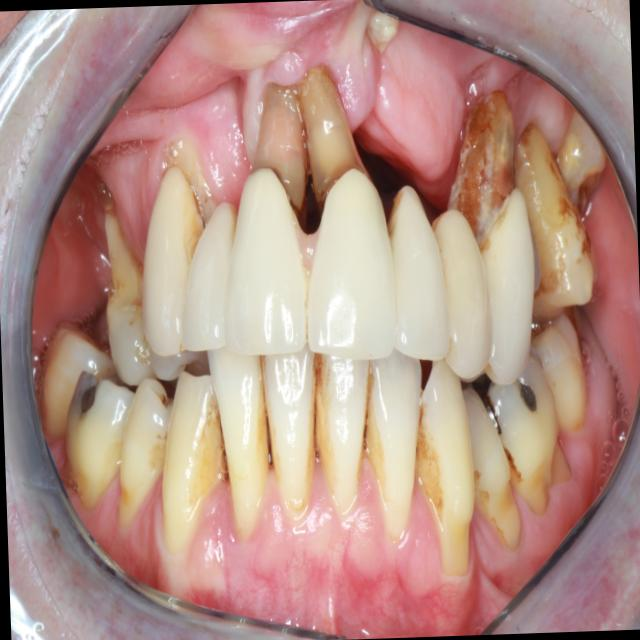tooth: (440, 82, 543, 397), (298, 50, 400, 367), (214, 66, 317, 368), (505, 103, 601, 329), (405, 343, 483, 580), (478, 333, 575, 522), (152, 359, 234, 563), (131, 158, 212, 363), (203, 332, 277, 548), (93, 195, 171, 393), (380, 169, 455, 372), (359, 343, 430, 552), (307, 332, 382, 523), (55, 358, 144, 517), (456, 370, 527, 556), (171, 192, 246, 365), (430, 195, 496, 388), (258, 340, 324, 533), (32, 308, 116, 455), (108, 371, 181, 537), (525, 296, 591, 439), (546, 90, 617, 218)
